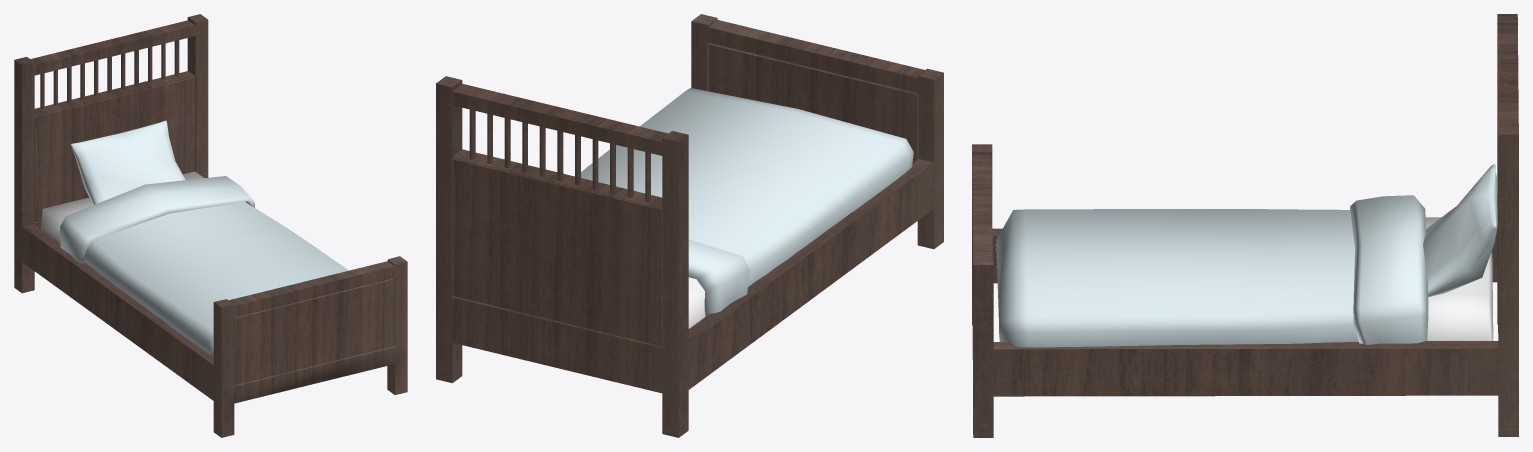
Rendered from bed_1.glb.
3 renders of one model, left to right at view 1: azimuth 30°, elevation 25°; view 2: azimuth 150°, elevation 25°; view 3: azimuth 270°, elevation 25°, orthographic. The views are drawn at different scales.
Parts seen in each view (by area): view 1: IKEA-Hemnes_Single_Bed_Frame_Small-3D; view 2: IKEA-Hemnes_Single_Bed_Frame_Small-3D; view 3: IKEA-Hemnes_Single_Bed_Frame_Small-3D.
Part boxes in pixels (x1,y1,x2,y2): IKEA-Hemnes_Single_Bed_Frame_Small-3D: [14, 14, 407, 437]; IKEA-Hemnes_Single_Bed_Frame_Small-3D: [436, 14, 943, 437]; IKEA-Hemnes_Single_Bed_Frame_Small-3D: [972, 14, 1518, 437].
Size of the model in its own units: 104 by 121 by 198.
Materials: 3 (1 with a texture image).
